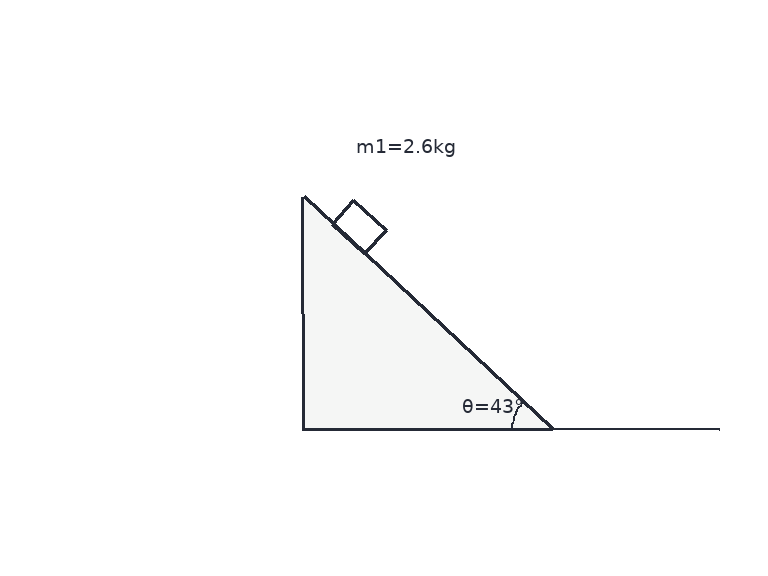block: (330, 198, 388, 256)
ramp: (301, 195, 554, 431)
